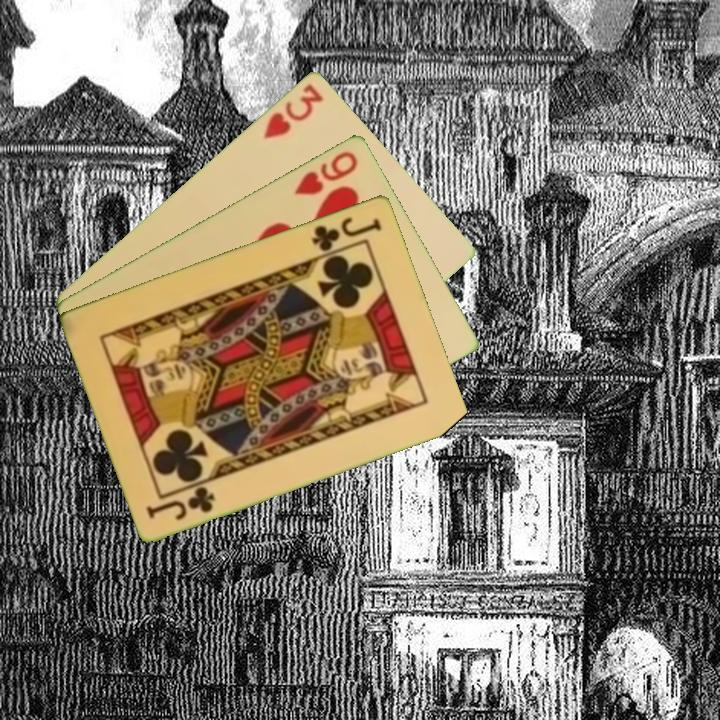3h: (260, 79, 327, 142)
9h: (291, 146, 361, 198)
Jc: (308, 212, 385, 254), (143, 482, 218, 523)
